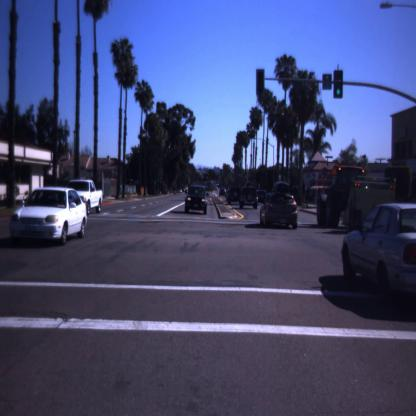trafficlight: (333, 66, 346, 102), (255, 65, 266, 99)
